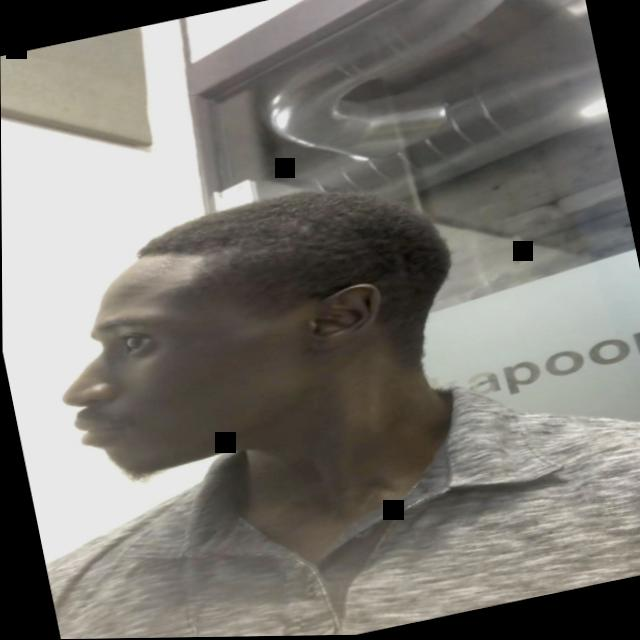NO-Mask: (42, 220, 396, 494)
